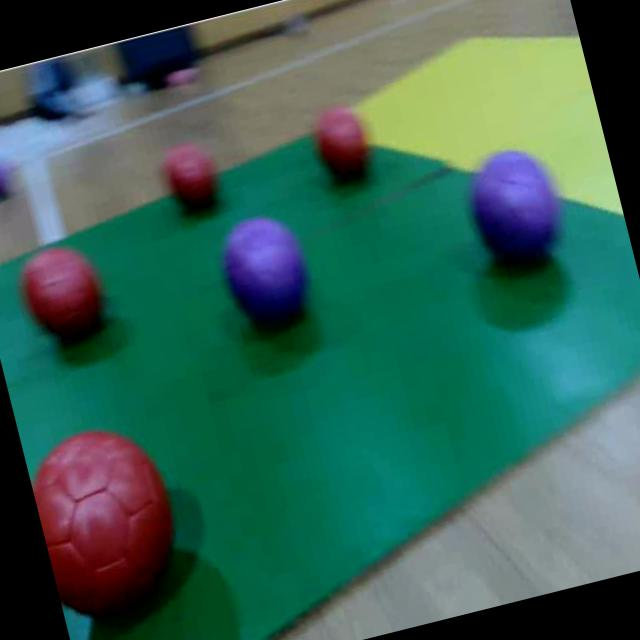blue_ball: (208, 203, 322, 344), (0, 145, 19, 209)
purple_ball: (457, 140, 577, 290)
red_ball: (22, 410, 202, 626), (8, 230, 116, 360), (302, 106, 383, 196), (158, 138, 228, 221)
